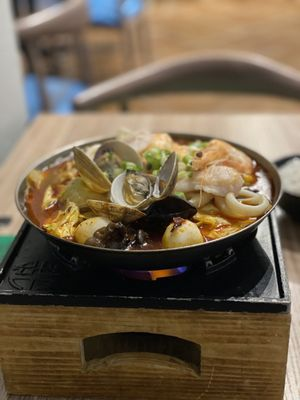sushi: (4, 125, 286, 277)
